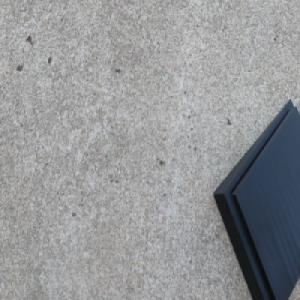PlasticPart: (211, 95, 300, 300)
